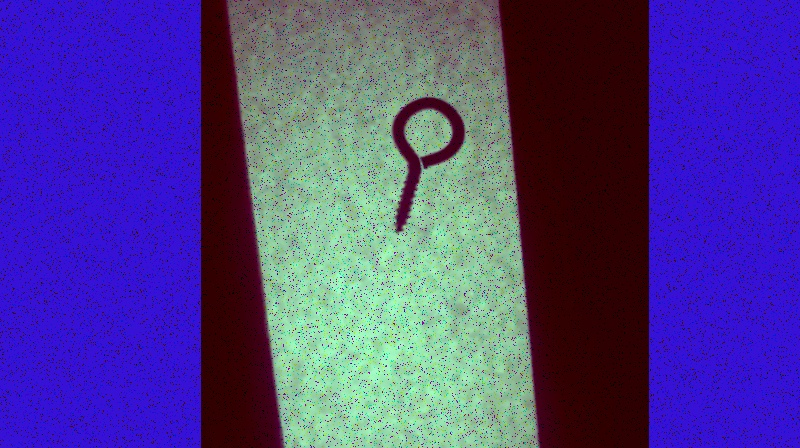O001: (390, 94, 467, 236)
